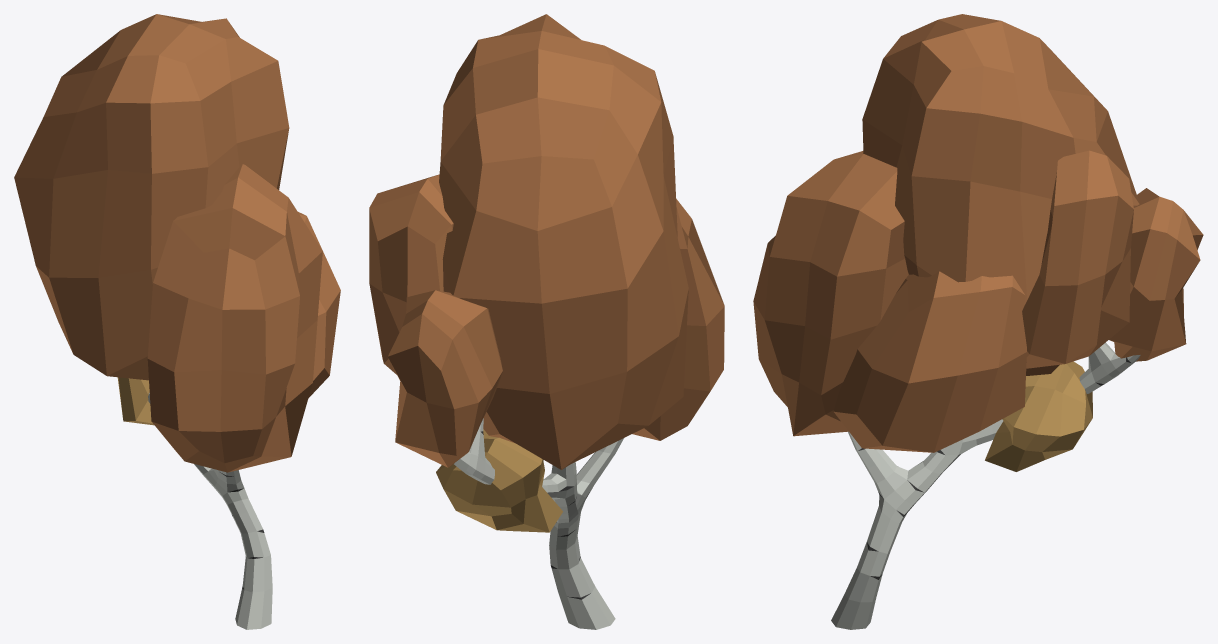
The model's file is BirchTree_Autumn_1.glb.
The picture shows the model from 3 angles, left to right: view 1: azimuth 30°, elevation 25°; view 2: azimuth 150°, elevation 25°; view 3: azimuth 270°, elevation 25°; orthographic projection. The views are drawn at different scales.
Parts seen in each view (by area): view 1: Orange, White, LightOrange; view 2: Orange, White, LightOrange; view 3: Orange, White, LightOrange.
Part boxes in pixels (bbox=[...]): Orange: bbox=[14, 14, 340, 472]; White: bbox=[148, 393, 272, 629]; LightOrange: bbox=[117, 377, 153, 425]; Orange: bbox=[369, 14, 724, 469]; White: bbox=[454, 418, 623, 629]; LightOrange: bbox=[436, 429, 562, 532]; Orange: bbox=[753, 14, 1203, 452]; White: bbox=[831, 342, 1140, 629]; LightOrange: bbox=[985, 361, 1092, 471].
Size of the model in its own units: 1.7 by 3.57 by 2.48.
